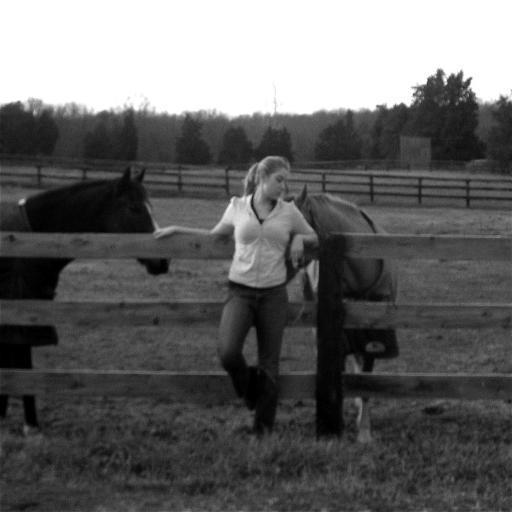horse: (0, 164, 171, 440), (284, 180, 400, 442)
